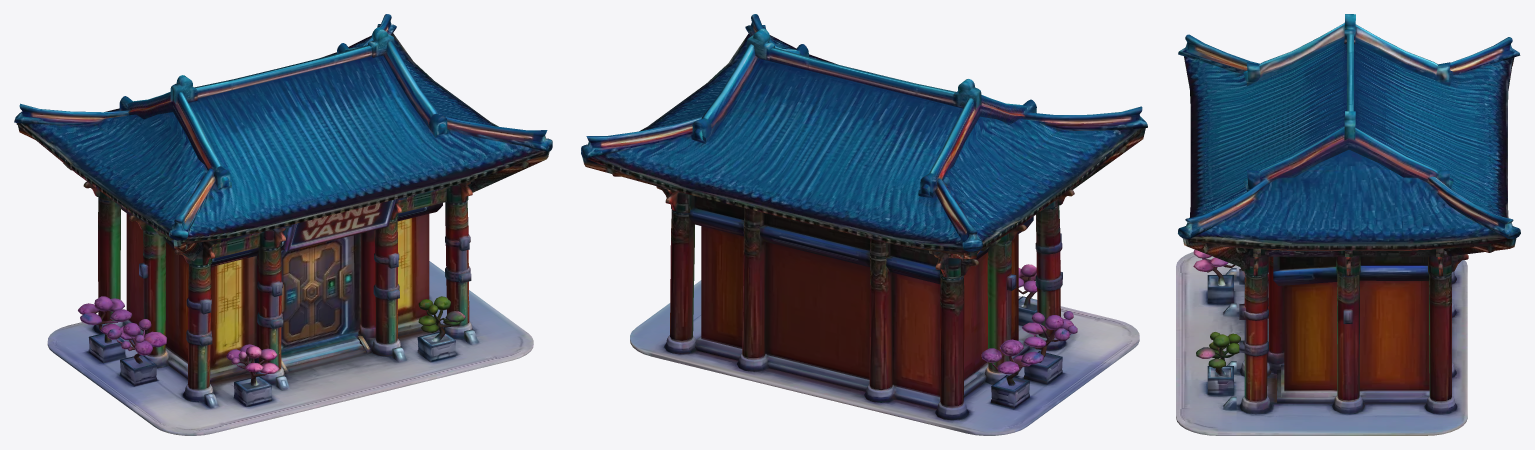
The model's file is wano_vault.m.glb.
The picture shows the model from 3 angles, left to right: view 1: azimuth 30°, elevation 25°; view 2: azimuth 150°, elevation 25°; view 3: azimuth 270°, elevation 25°; orthographic projection. The views are drawn at different scales.
Visible parts, largest first — view 1: tripo_node_15f88955; view 2: tripo_node_15f88955; view 3: tripo_node_15f88955.
Boxes of the visible parts, x1,y1,x2,y2 form: tripo_node_15f88955: (14,14,552,435); tripo_node_15f88955: (581,14,1147,435); tripo_node_15f88955: (1176,14,1520,435).
Size of the model in its own units: 0.9995 by 0.7046 by 0.7661.
Materials: 1 (1 with a texture image).
